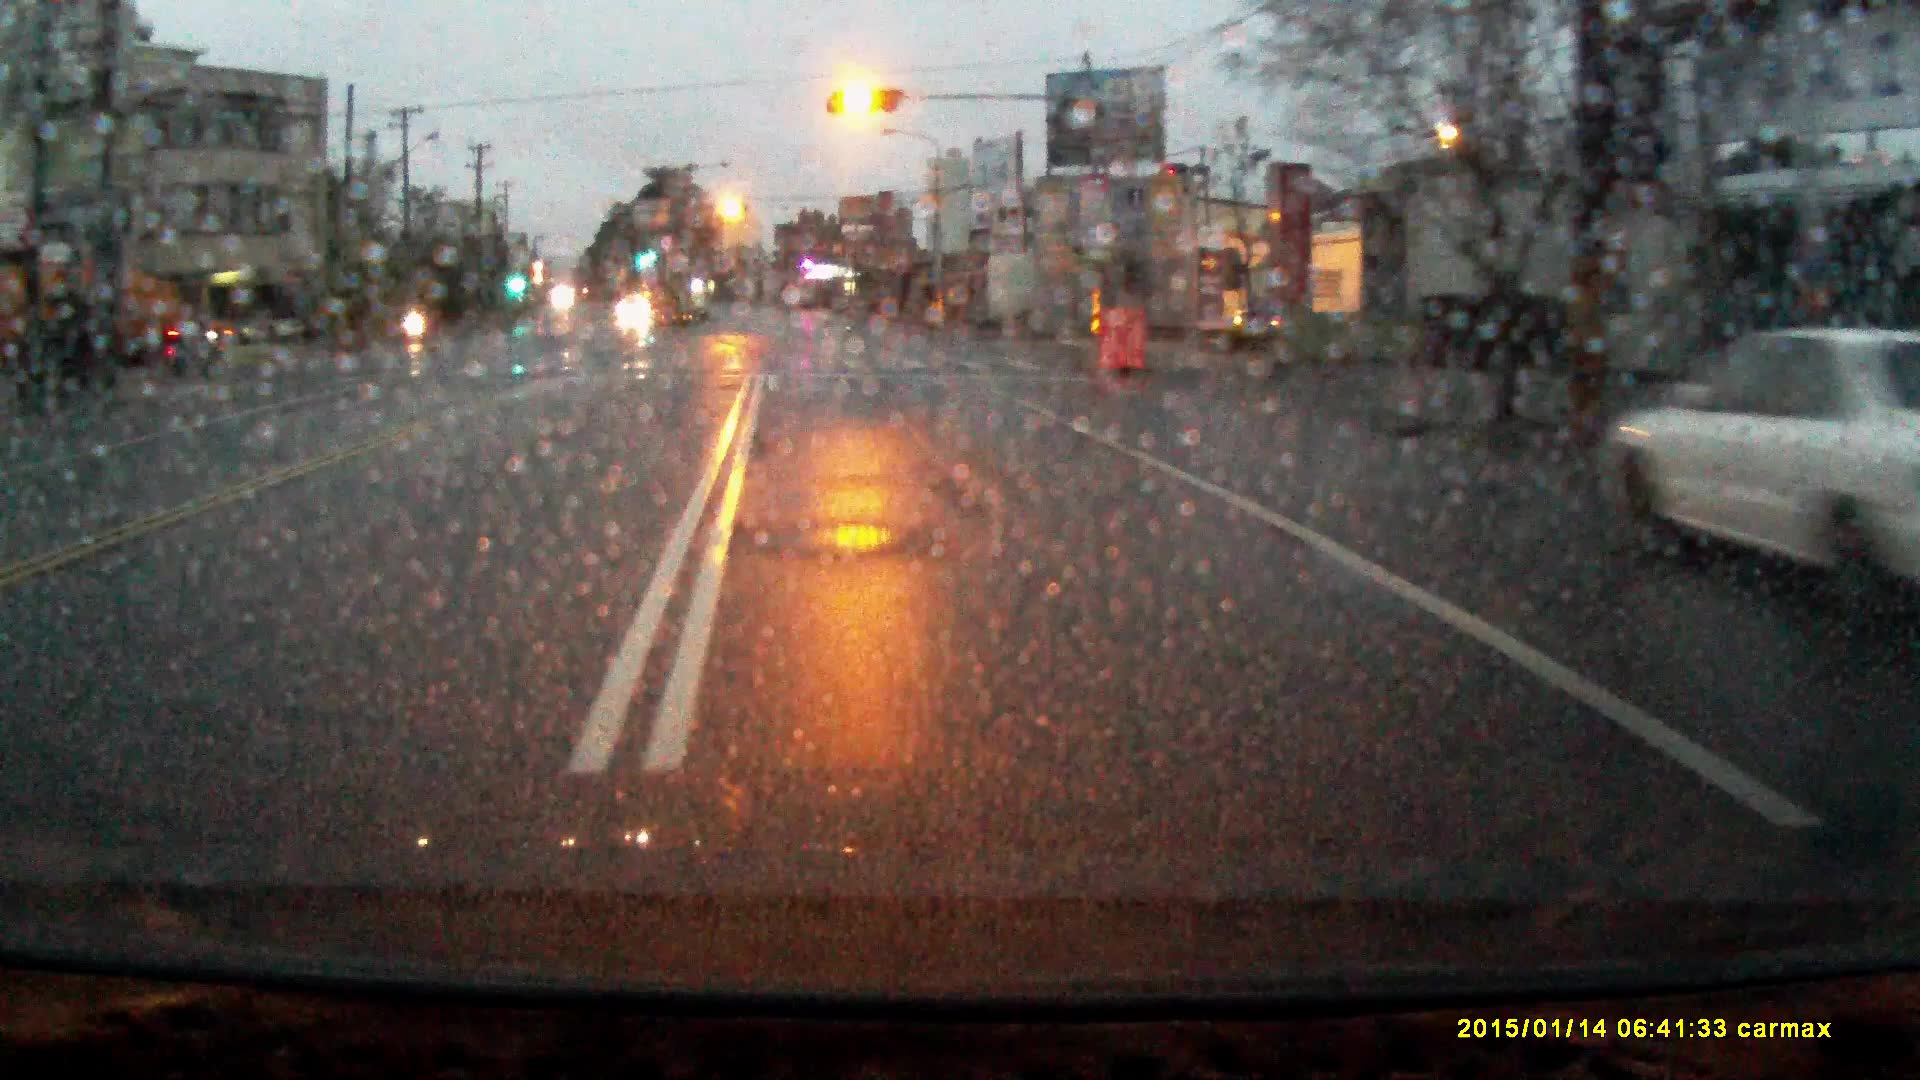rider: (401, 282, 429, 348)
vehicle: (1601, 334, 1920, 576), (1, 258, 197, 373), (616, 293, 653, 323)
